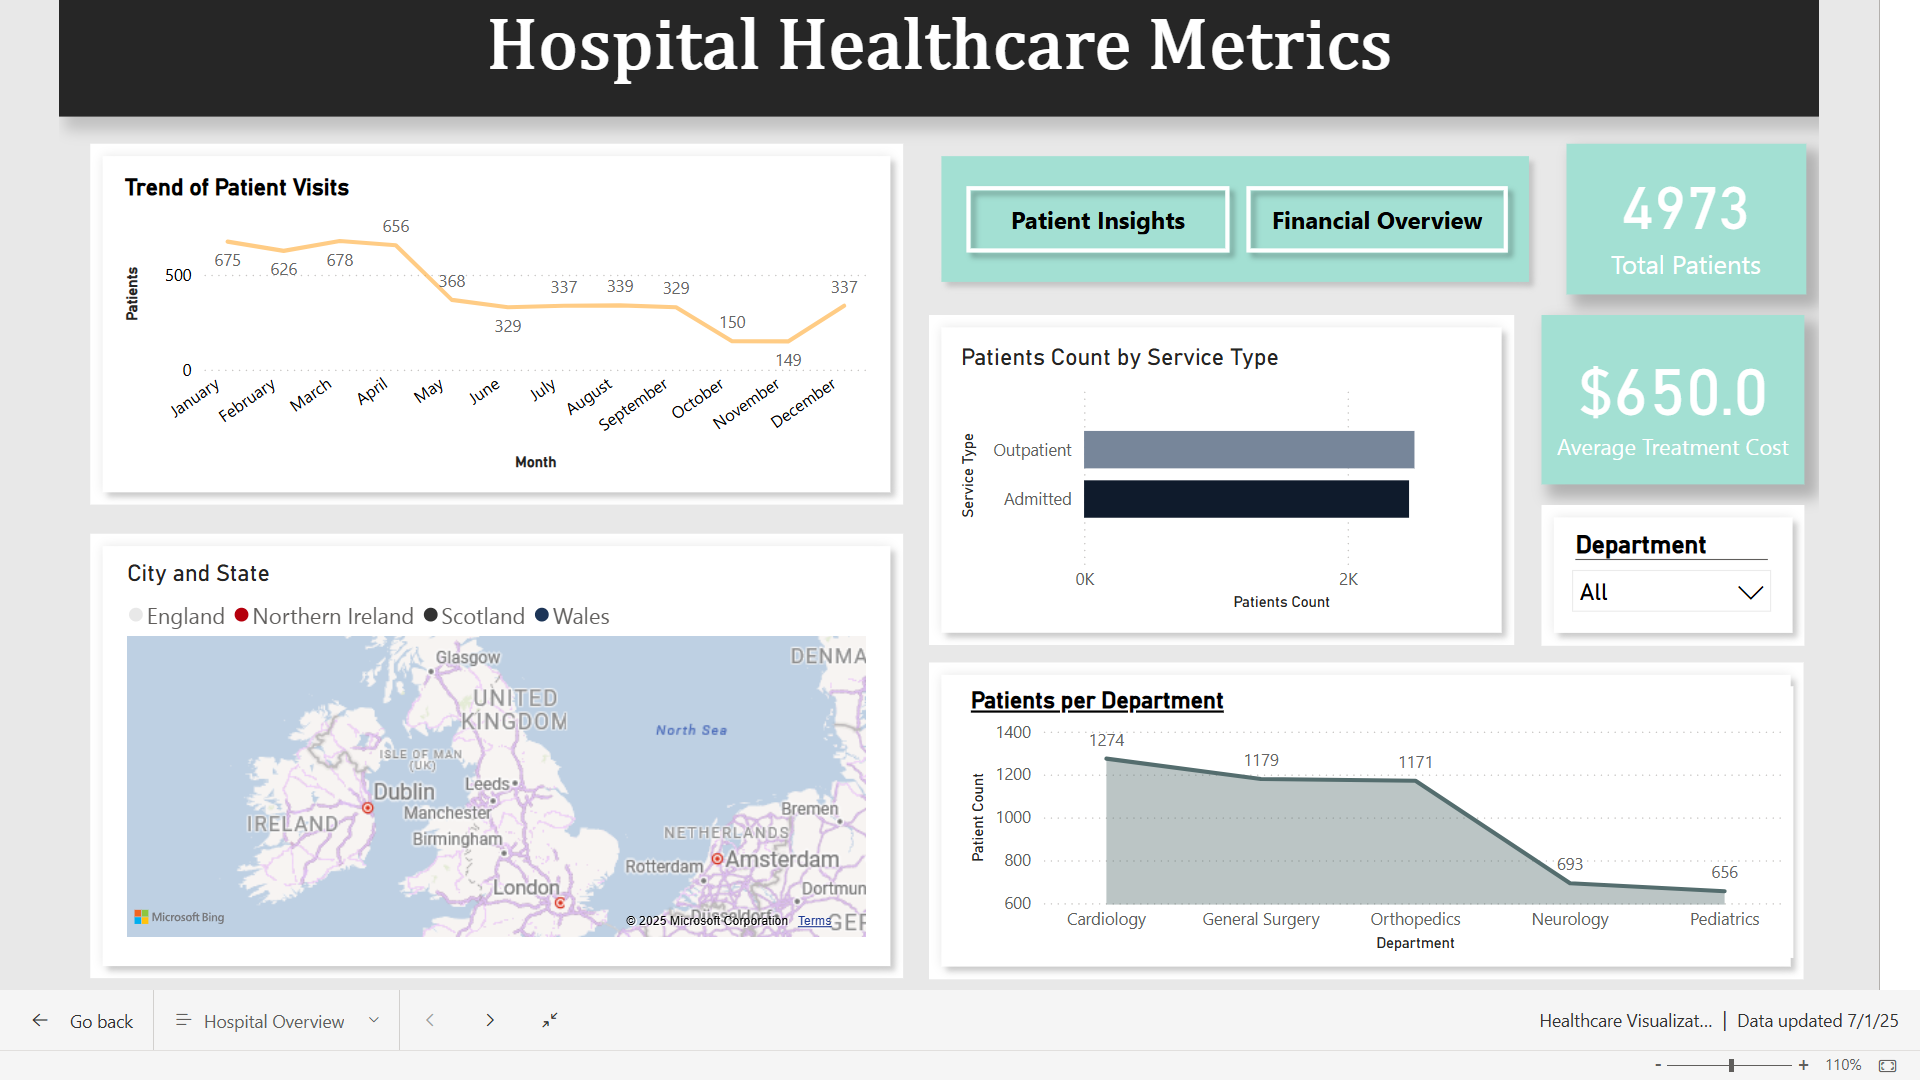

Layout of this report page (visuals, bound fields, positions):
{"tool":"powerbi","page":{"name":"Hospital Overview","canvas":[1280,720],"ordinal":0},"visuals":[{"type":"textbox","box":[0,0,1280.4,84.5],"z":0},{"type":"card","fields":{"Values":["Healthcare Dataset.Total Patients"]},"box":[1095.9,104.5,174.2,109.5],"z":1000},{"type":"card","fields":{"Values":["Avg(Healthcare Dataset.Bill Amount)"]},"box":[1078.5,228.9,191.6,123.2],"z":2000},{"type":"shape","box":[633.2,481.4,635.7,230.1],"z":3000},{"type":"areaChart","title":"Patients per Department","fields":{"Category":["Healthcare Dataset.Department"],"Y":["Healthcare Dataset.Total Patients"]},"box":[658.1,498.8,603.3,197.8],"z":4000},{"type":"shape","box":[633.2,228.9,425.4,240.1],"z":5000},{"type":"shape","box":[633.2,104.5,445.3,109.5],"z":6000},{"type":"shape","box":[651.2,126.7,209.3,66.3],"z":7000},{"type":"shape","box":[854.7,126.7,208.1,66.3],"z":8000},{"type":"clusteredBarChart","fields":{"Category":["Healthcare Dataset.Service Type"],"Y":["Healthcare Dataset.Total Patients"]},"box":[650.6,248.8,394.3,200.3],"z":9000},{"type":"shape","box":[22.4,104.5,590.9,262.5],"z":10000},{"type":"lineChart","title":"Trend of Patient Visits","fields":{"Y":["Healthcare Dataset.Total Patients"],"Category":["Healthcare Dataset.Date of Visit.Variation.Date Hierarchy.Month"]},"box":[42.3,125.6,549.8,221.4],"z":11000},{"type":"shape","box":[22.4,388.1,590.9,323.4],"z":12000},{"type":"shape","box":[1078.5,367,191.6,102],"z":13000},{"type":"slicer","fields":{"Values":["Healthcare Dataset.Department"]},"box":[1089.7,380.7,165.4,74.6],"z":14000},{"type":"filledMap","fields":{"Category":["Healthcare Dataset.City"],"Series":["Healthcare Dataset.State"]},"box":[44.8,406.8,547.3,279.9],"z":15000}]}

Visuals, with their boxes on the page's 1280x720 design canvas (x1, y1, x2, y2). These are canvas units, not pixel positions in the 1920x1080 screenshot, which may show the page scaled, cropped or inside an application window:
textbox: box(0, 0, 1280, 84)
card - Healthcare Dataset.Total Patients: box(1096, 104, 1270, 214)
card - Avg(Healthcare Dataset.Bill Amount): box(1078, 229, 1270, 352)
shape: box(633, 481, 1269, 712)
"Patients per Department" areaChart: box(658, 499, 1261, 697)
shape: box(633, 229, 1059, 469)
shape: box(633, 104, 1078, 214)
shape: box(651, 127, 860, 193)
shape: box(855, 127, 1063, 193)
clusteredBarChart - Healthcare Dataset.Service Type x Healthcare Dataset.Total Patients: box(651, 249, 1045, 449)
shape: box(22, 104, 613, 367)
"Trend of Patient Visits" lineChart: box(42, 126, 592, 347)
shape: box(22, 388, 613, 712)
shape: box(1078, 367, 1270, 469)
slicer - Healthcare Dataset.Department: box(1090, 381, 1255, 455)
filledMap - Healthcare Dataset.City x Healthcare Dataset.State: box(45, 407, 592, 687)
